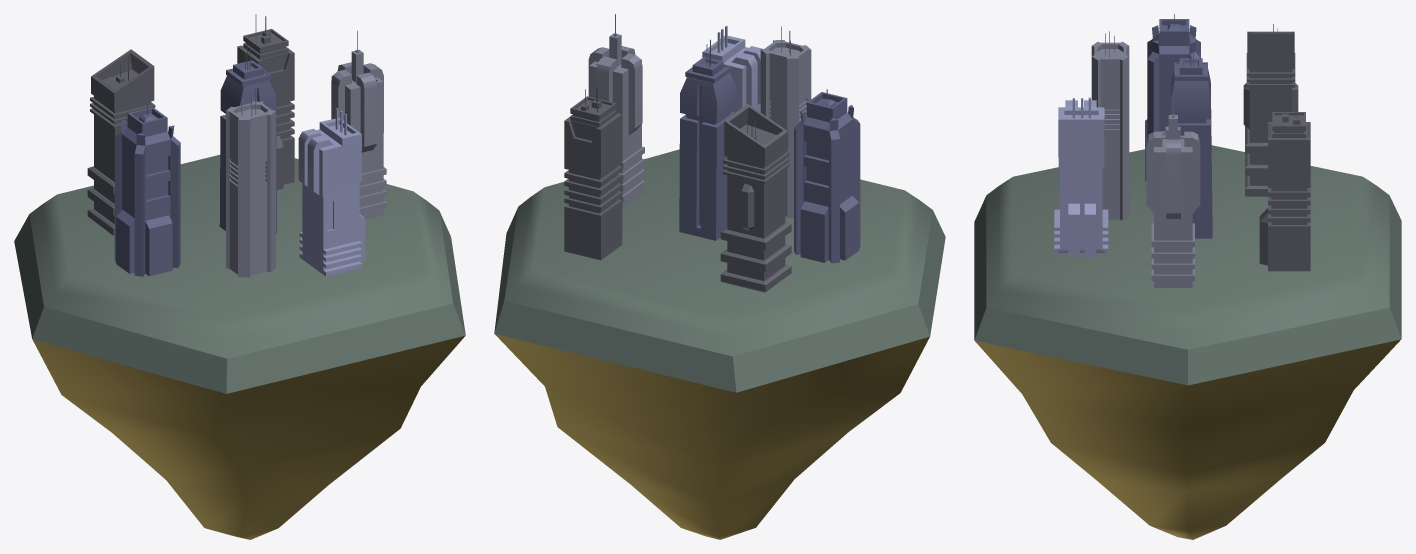
The model's file is sample_city.fbx.
3 renders of one model, left to right at view 1: azimuth 30°, elevation 25°; view 2: azimuth 150°, elevation 25°; view 3: azimuth 270°, elevation 25°, orthographic.
Parts seen in each view (by area): view 1: polySurface139; view 2: polySurface139; view 3: polySurface139.
Part boxes in pixels (x1,y1,x2,y2): polySurface139: (14,14,465,539); polySurface139: (494,14,945,539); polySurface139: (974,14,1401,539).
Bounding box in the file's own units: 11.53 × 12.9 × 9.99.
